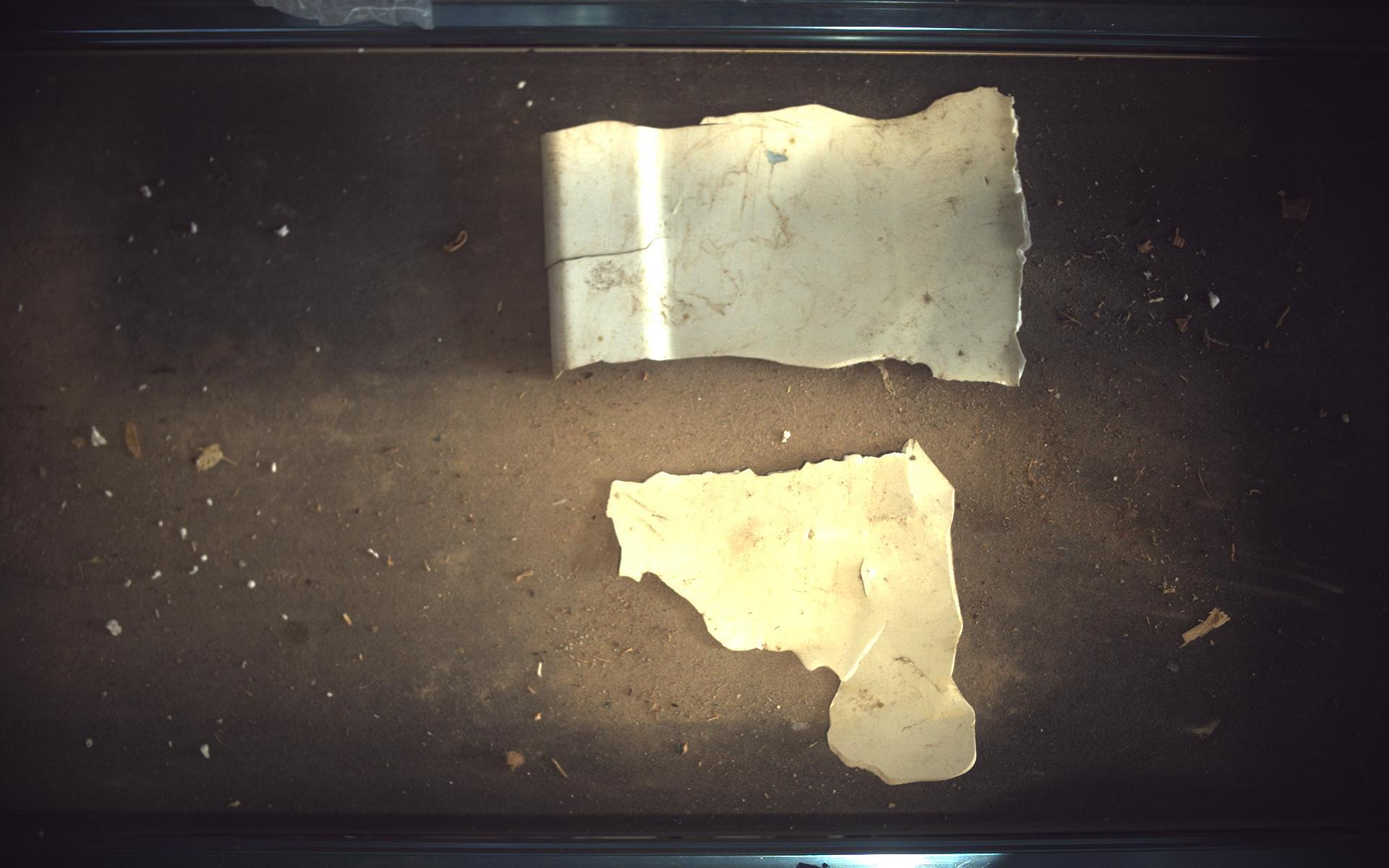plastic: (543, 87, 1033, 386), (607, 441, 978, 786)
